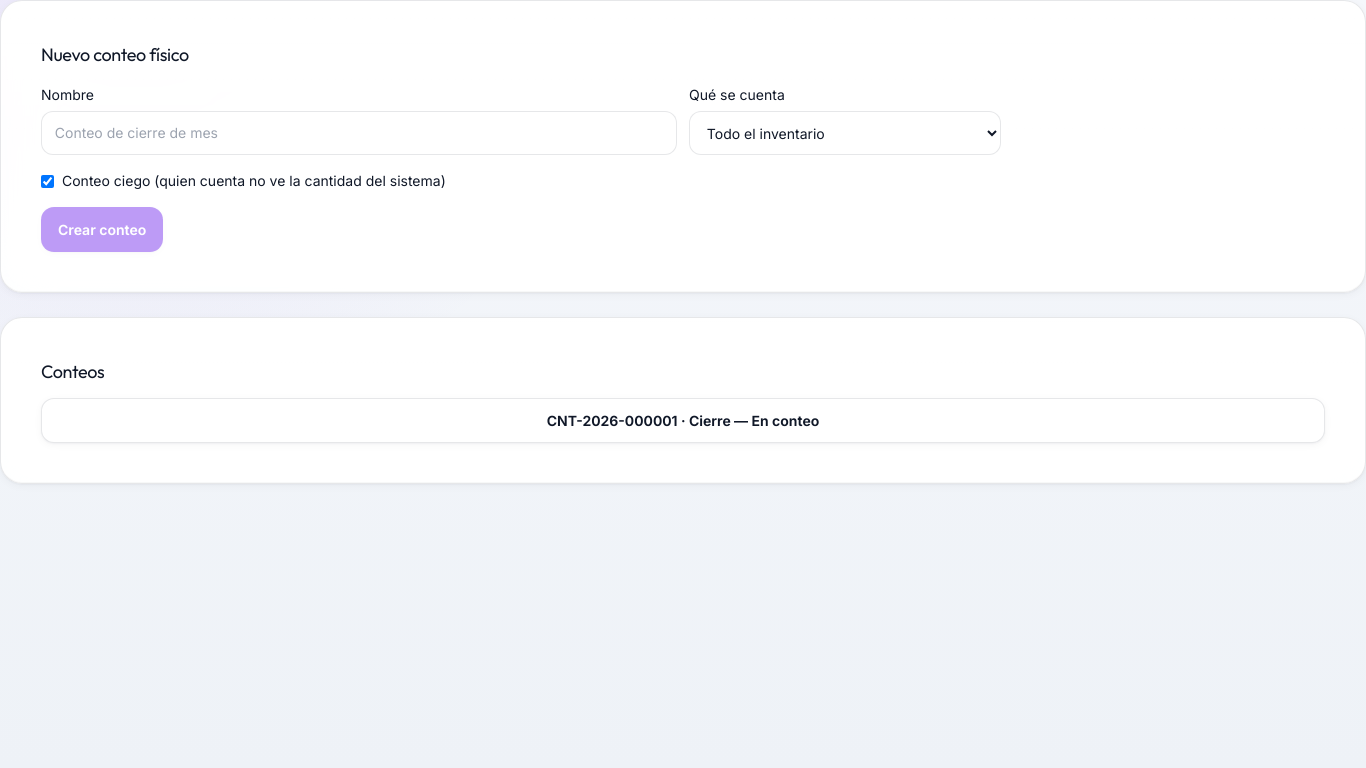
Test: assigning needs a person and sends the access hours; closing asks the server to apply the count
Later steps or results of the test are not shown.
Click the button with test id "count-row" at (683, 420), box [41,398,1325,443]
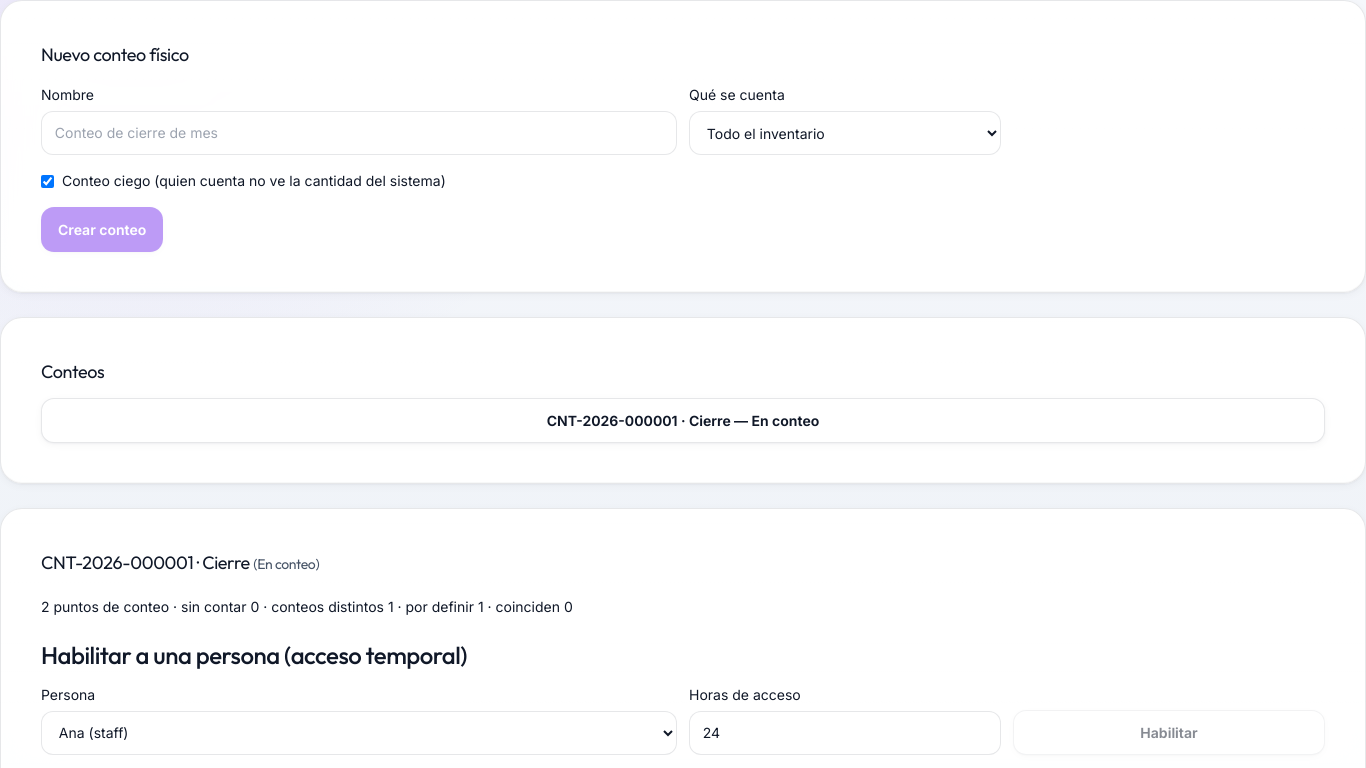
Expected: the button with test id "assign-btn" is disabled, [1013,710,1325,755]
